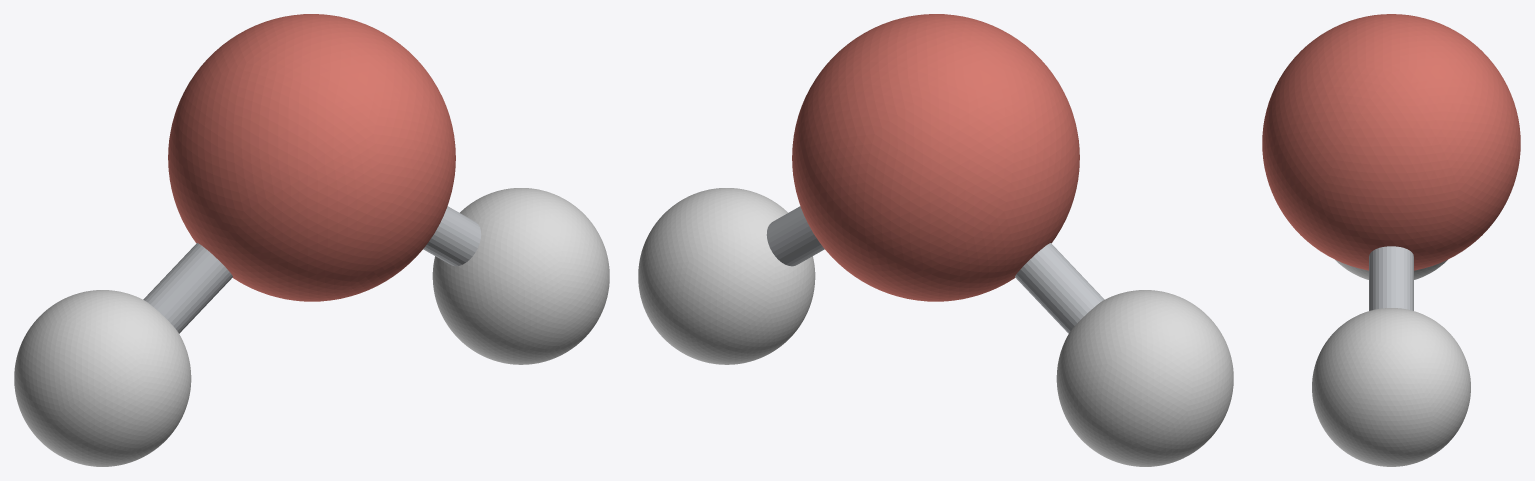
The model's file is molekul-air.glb.
3 views of the same model, side by side, from view 1: azimuth 30°, elevation 25°; view 2: azimuth 150°, elevation 25°; view 3: azimuth 270°, elevation 25° (orthographic). The views are drawn at different scales.
Visible parts, largest first — view 1: oksigen, hidrogen-2, hidrogen-1, ikatan-2, ikatan-1; view 2: oksigen, hidrogen-2, hidrogen-1, ikatan-2, ikatan-1; view 3: oksigen, hidrogen-1, ikatan-1, hidrogen-2.
Boxes of the visible parts, <box> form: oksigen: <box>168,14,455,301</box>; hidrogen-2: <box>14,290,191,466</box>; hidrogen-1: <box>432,188,609,364</box>; ikatan-2: <box>143,243,232,333</box>; ikatan-1: <box>423,206,481,266</box>; oksigen: <box>792,14,1079,301</box>; hidrogen-2: <box>1056,290,1233,466</box>; hidrogen-1: <box>638,188,815,364</box>; ikatan-2: <box>1015,243,1104,333</box>; ikatan-1: <box>766,206,824,266</box>; oksigen: <box>1262,14,1520,270</box>; hidrogen-1: <box>1312,308,1470,466</box>; ikatan-1: <box>1369,246,1413,310</box>; hidrogen-2: <box>1335,259,1447,279</box>.
Size of the model in its own units: 2.39 by 1.52 by 1.04.
